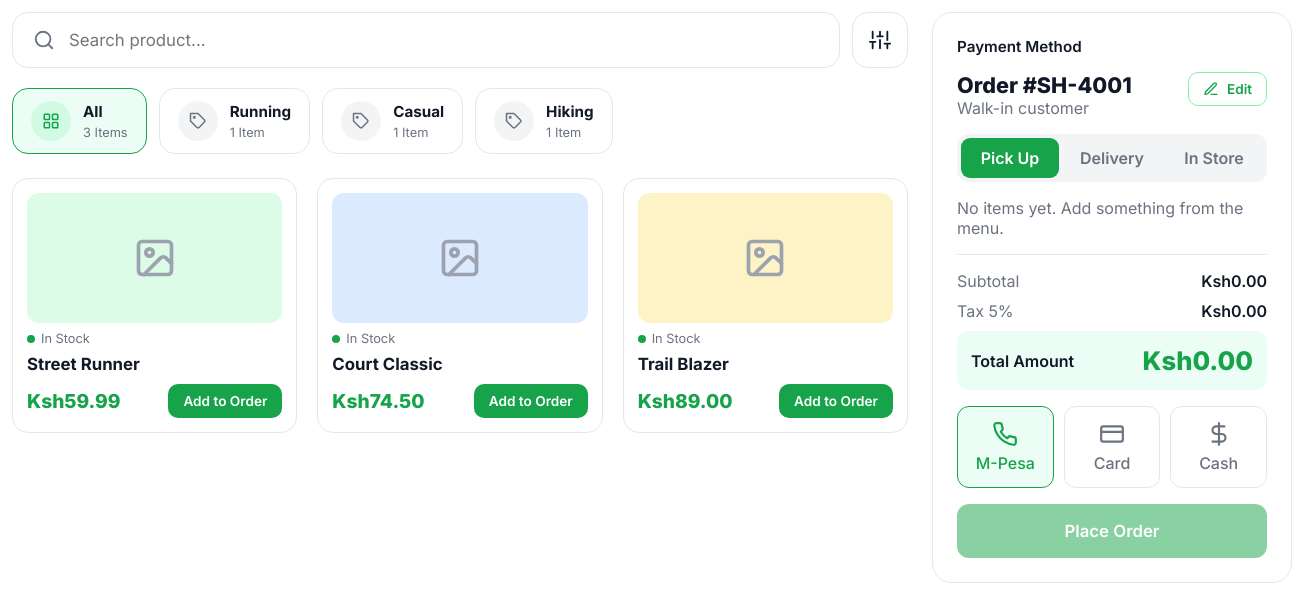
Test case: search filters the list
Expected: the link "Street Runner" is shown, x1=27 y1=354 x2=140 y2=374
In the search field named "search products": (443, 40) x1=67 y1=29 x2=819 y2=51, type "trail"
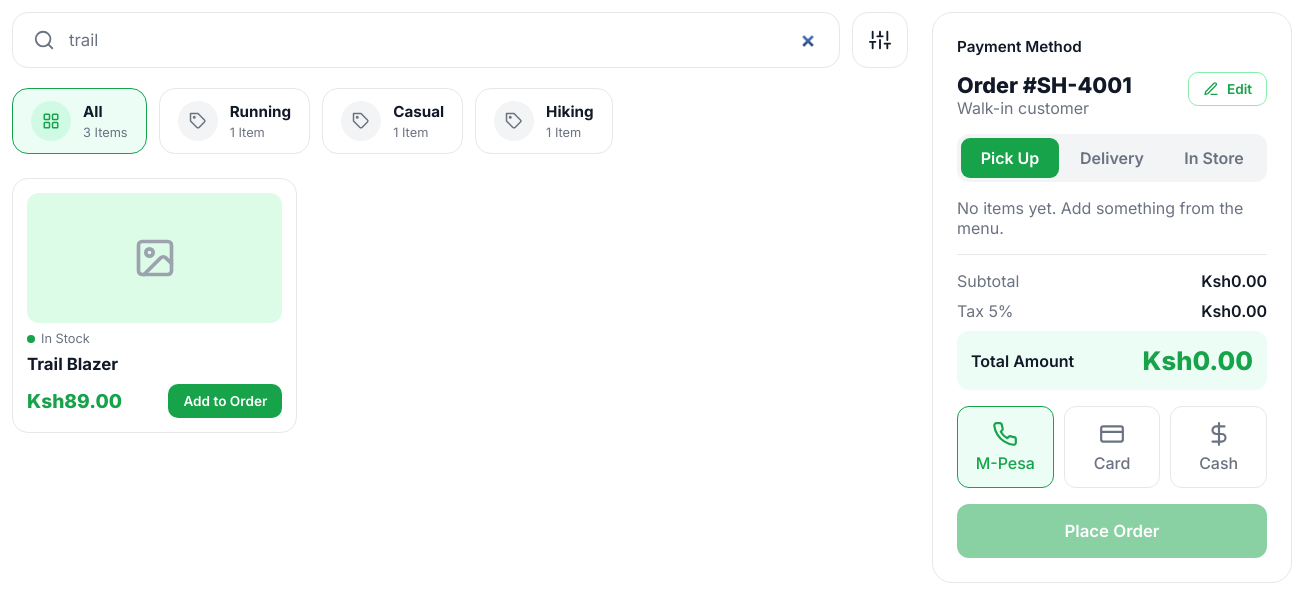
Expected: the link "Trail Blazer" is shown, x1=27 y1=354 x2=118 y2=374
Now the link "Street Runner" is gone
